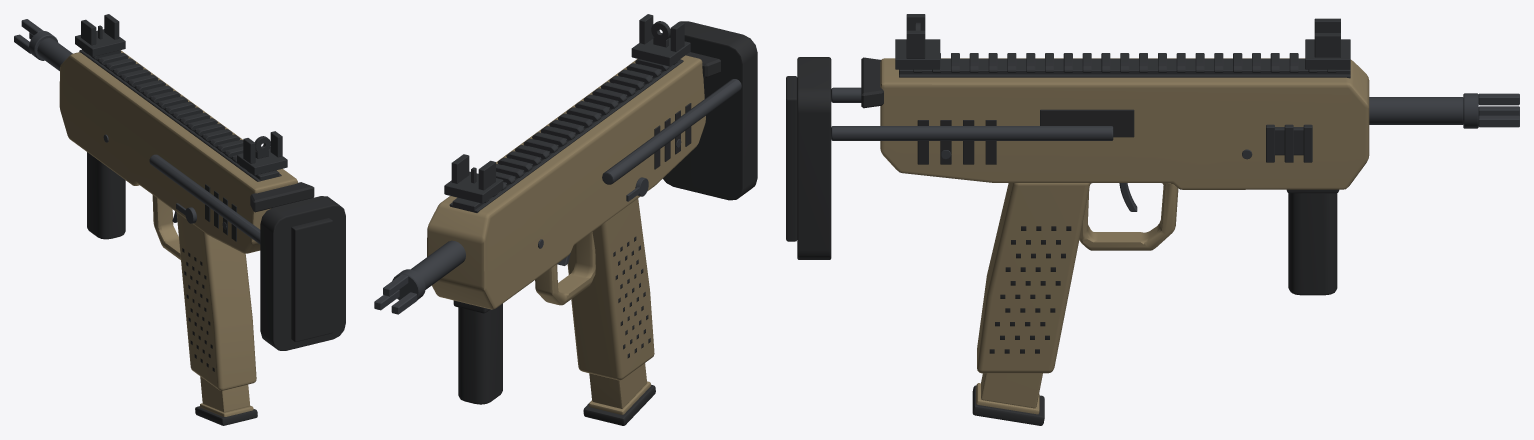
Rendered from wpn_wasp_pdw.glb.
3 renders of one model, left to right at view 1: azimuth 30°, elevation 25°; view 2: azimuth 150°, elevation 25°; view 3: azimuth 270°, elevation 25°, orthographic. The views are drawn at different scales.
Visible parts, largest first — view 1: Body, Stock, Grip, BodyRail, IronSights, FrontGrip, Magazine, ChargingHandle, BodyDetails, FlashHider, Barrel, MagazinePad (+1 smaller); view 2: Body, Stock, Grip, BodyRail, FrontGrip, IronSights, Magazine, FlashHider, Barrel, BodyDetails, MagazinePad, GripTexture (+1 smaller); view 3: Body, Grip, Stock, BodyRail, FrontGrip, IronSights, BodyDetails, Barrel, Magazine, FlashHider, GripTexture, ChargingHandle (+1 smaller).
Boxes of the visible parts, x1,y1,x2,y2 form: Body: (59, 50, 297, 259); Stock: (149, 154, 345, 350); Grip: (176, 212, 256, 390); BodyRail: (79, 49, 281, 181); IronSights: (75, 14, 287, 175); FrontGrip: (87, 152, 125, 239); Magazine: (200, 376, 253, 416); ChargingHandle: (250, 182, 314, 212); BodyDetails: (103, 134, 236, 241); FlashHider: (14, 19, 58, 60); Barrel: (37, 38, 72, 70); MagazinePad: (195, 406, 257, 425); Body: (427, 55, 705, 309); Stock: (602, 21, 757, 200); Grip: (567, 198, 654, 380); BodyRail: (449, 59, 683, 212); FrontGrip: (453, 300, 502, 404); IronSights: (444, 14, 690, 203); Magazine: (589, 363, 650, 414); FlashHider: (374, 269, 425, 314); Barrel: (410, 240, 465, 289); BodyDetails: (538, 103, 691, 248); MagazinePad: (583, 384, 655, 425); GripTexture: (613, 236, 650, 358); Body: (880, 58, 1369, 250); Grip: (977, 183, 1090, 373); Stock: (786, 57, 1113, 259); BodyRail: (899, 53, 1350, 162); FrontGrip: (1286, 189, 1339, 295); IronSights: (895, 14, 1350, 69); BodyDetails: (917, 109, 1252, 164); Barrel: (1369, 97, 1463, 124); Magazine: (976, 373, 1042, 414); FlashHider: (1463, 93, 1519, 128); GripTexture: (989, 226, 1071, 353); ChargingHandle: (861, 57, 883, 108).
Bounding box in the file's own units: 0.057 × 0.23 × 0.39.
